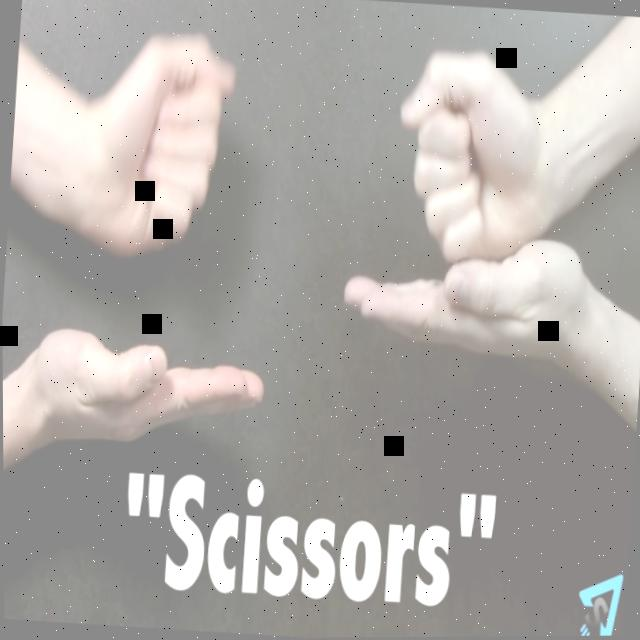Rock: (391, 48, 557, 266), (82, 30, 238, 256)
